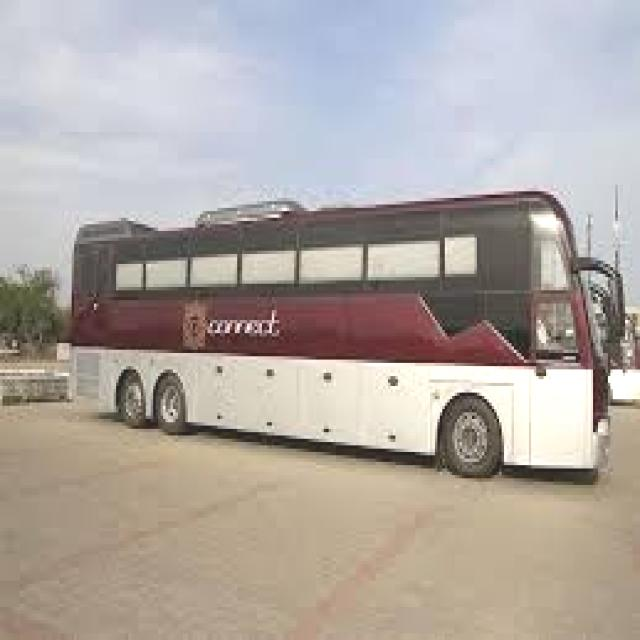bus: (48, 175, 637, 508)
